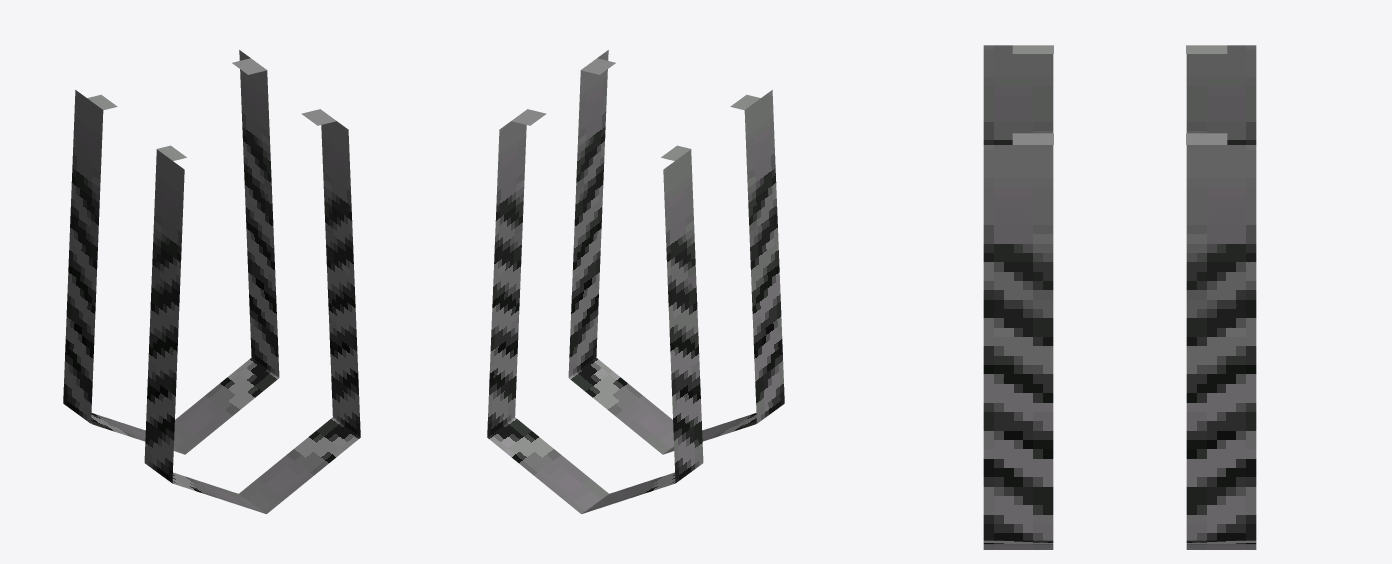
Rendered from eqp_comp_weapon_powerpack_s02_l2.fbx.
3 renders of one model, left to right at view 1: azimuth 30°, elevation 25°; view 2: azimuth 150°, elevation 25°; view 3: azimuth 270°, elevation 25°, orthographic. The views are drawn at different scales.
Visible parts, largest first — view 1: mesh_node; view 2: mesh_node; view 3: mesh_node.
Part boxes in pixels (left/top/right/bottom): mesh_node: left=63, top=50, right=360, bottom=513; mesh_node: left=487, top=50, right=784, bottom=513; mesh_node: left=983, top=45, right=1256, bottom=549.
Size of the model in its own units: 0.0473 by 0.103 by 0.0898.
1 material, 1 textured.
